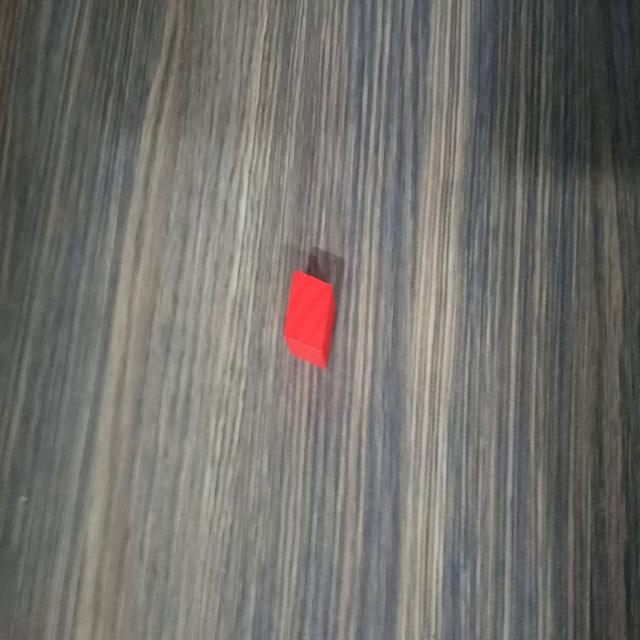cube: (283, 267, 337, 370)
